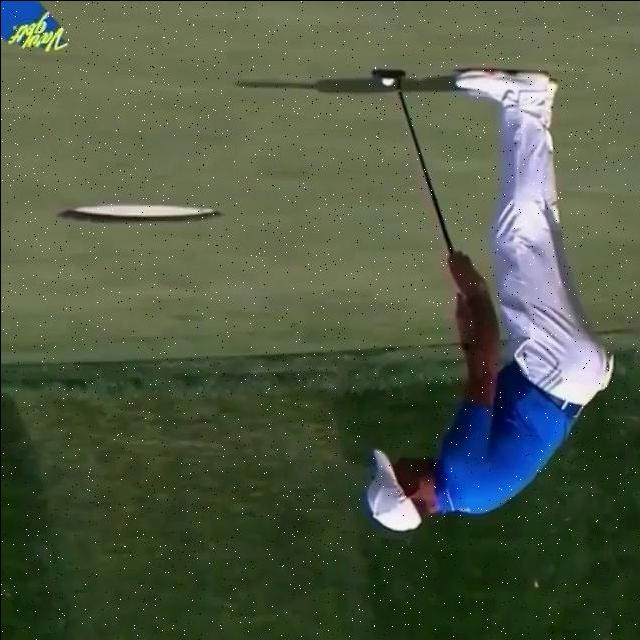ClubHandle: (371, 68, 454, 254)
ClubHead: (370, 69, 407, 78)
GolfBall: (380, 77, 394, 86)
